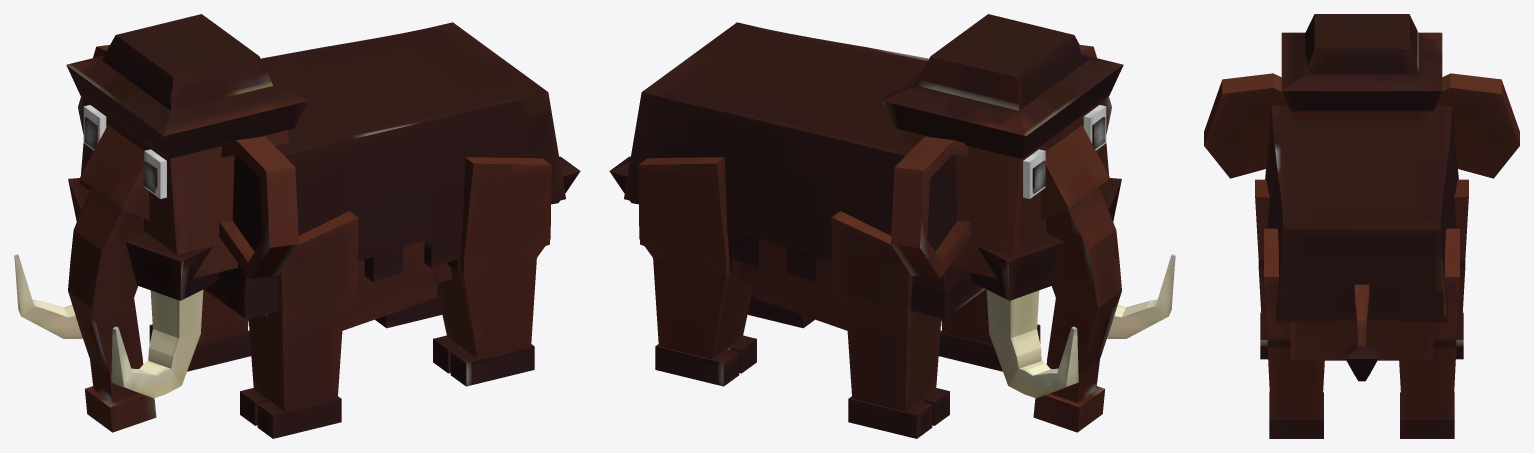
Rendered from animal_mamoth.obj.
3 views of the same model, side by side, from view 1: azimuth 30°, elevation 25°; view 2: azimuth 150°, elevation 25°; view 3: azimuth 270°, elevation 25° (orthographic). The views are drawn at different scales.
Parts seen in each view (by area): view 1: animal_mamoth; view 2: animal_mamoth; view 3: animal_mamoth.
Boxes of the visible parts, <box> form: animal_mamoth: <box>14,14,580,438</box>; animal_mamoth: <box>609,14,1175,438</box>; animal_mamoth: <box>1204,14,1519,438</box>.
Size of the model in its own units: 10.85 by 7.29 by 7.12.
Materials: 1 (1 with a texture image).
